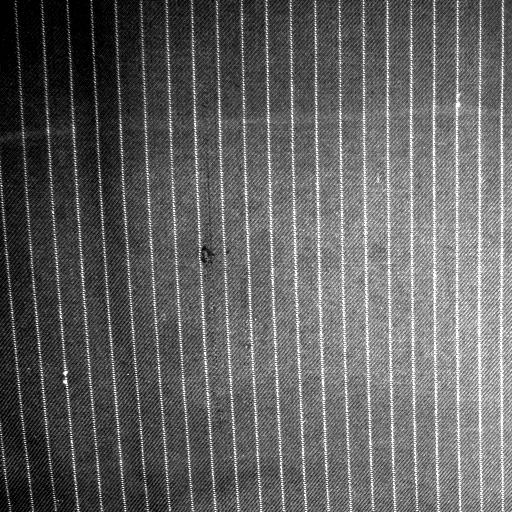fabric_hole: (193, 242, 227, 278)
